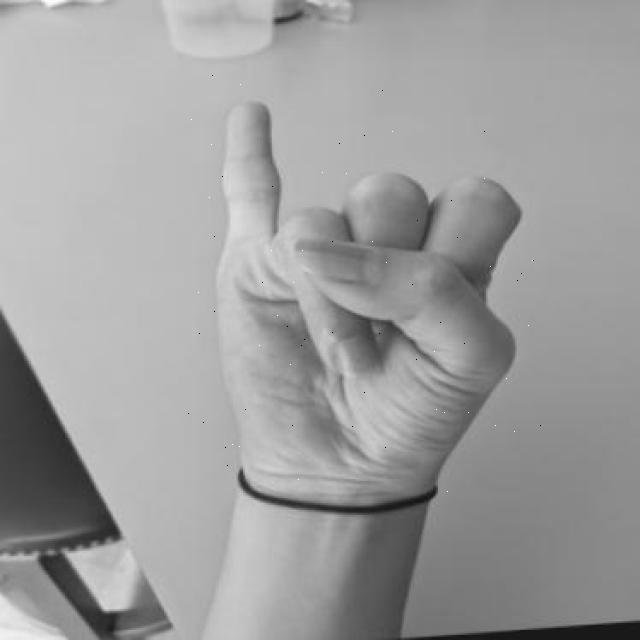I: (188, 75, 546, 500)
